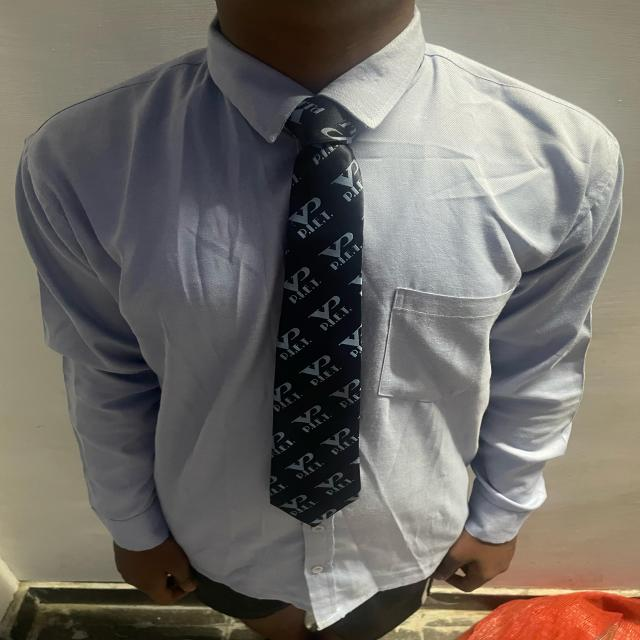Tie: (269, 96, 365, 527)
uniform: (13, 6, 624, 636)
